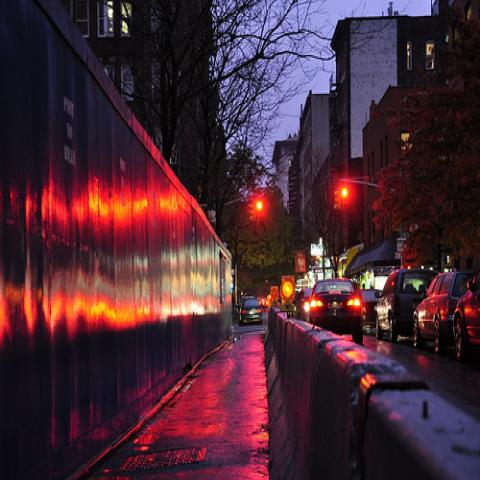car: (412, 270, 479, 358), (375, 269, 439, 342), (310, 278, 362, 344), (453, 272, 479, 345), (294, 288, 325, 323), (357, 289, 377, 327), (239, 298, 263, 326), (293, 290, 300, 307)
